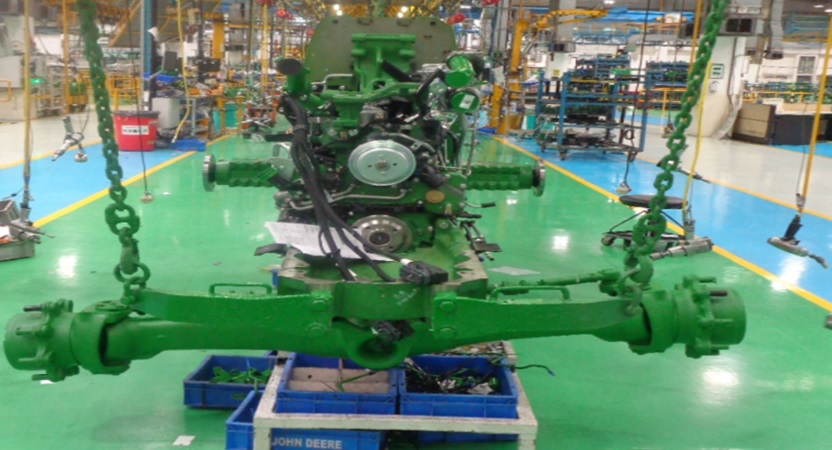engine: (4, 27, 744, 386)
